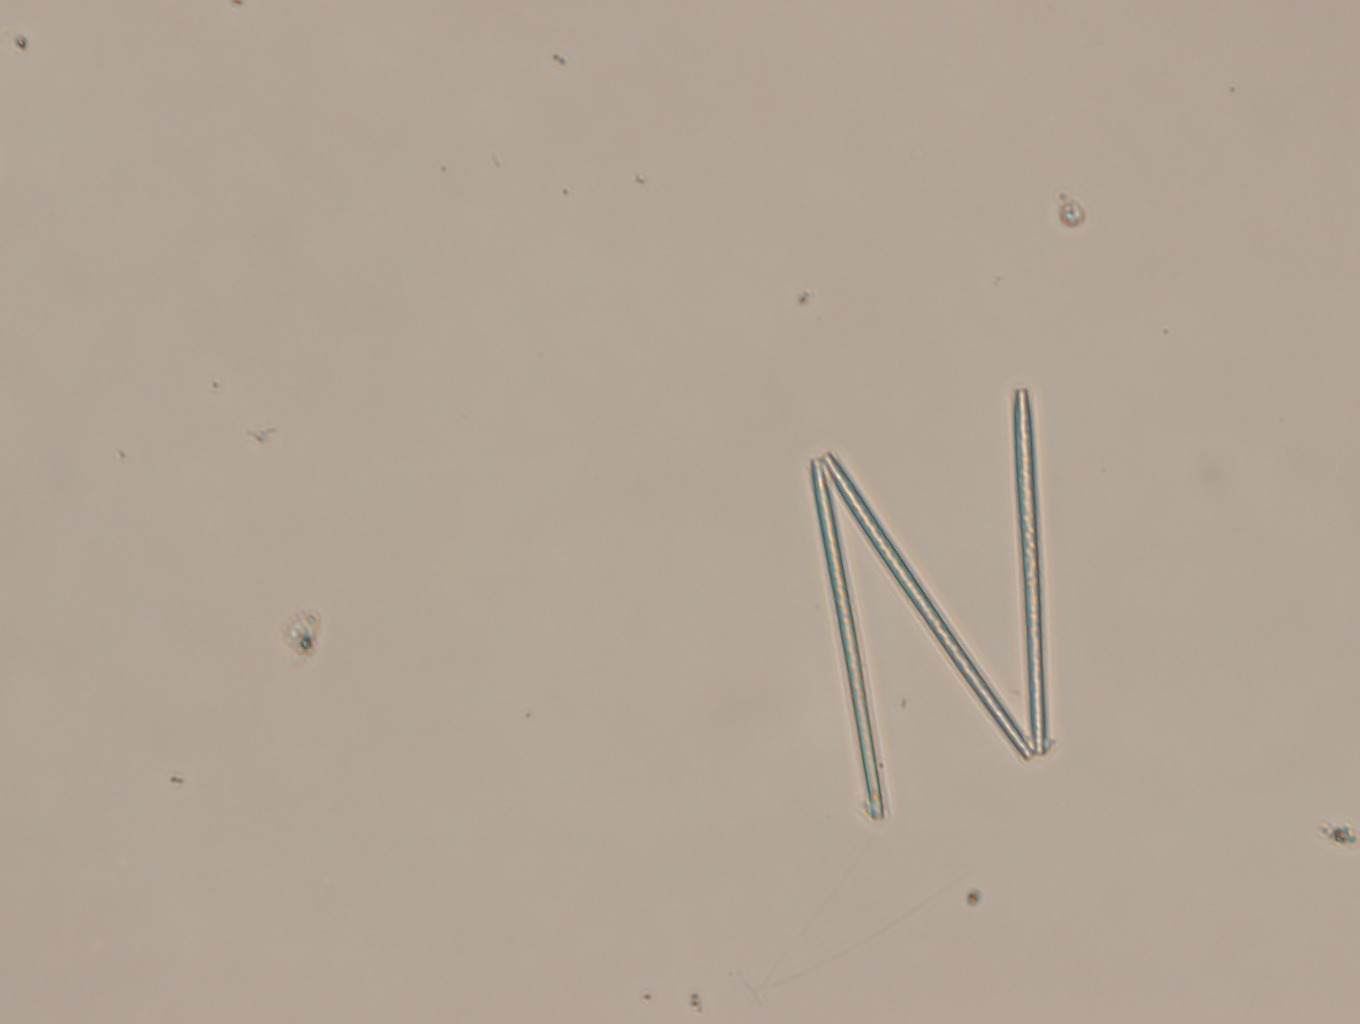thalassionema nitzschioides: (803, 381, 1062, 827)
